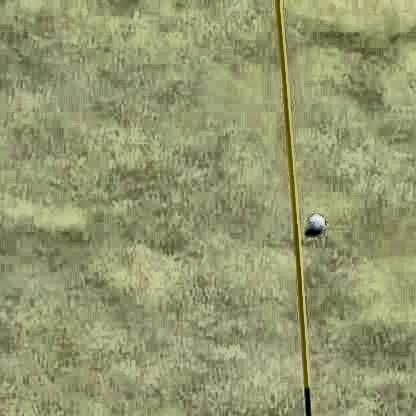golfball: (305, 213, 323, 231)
